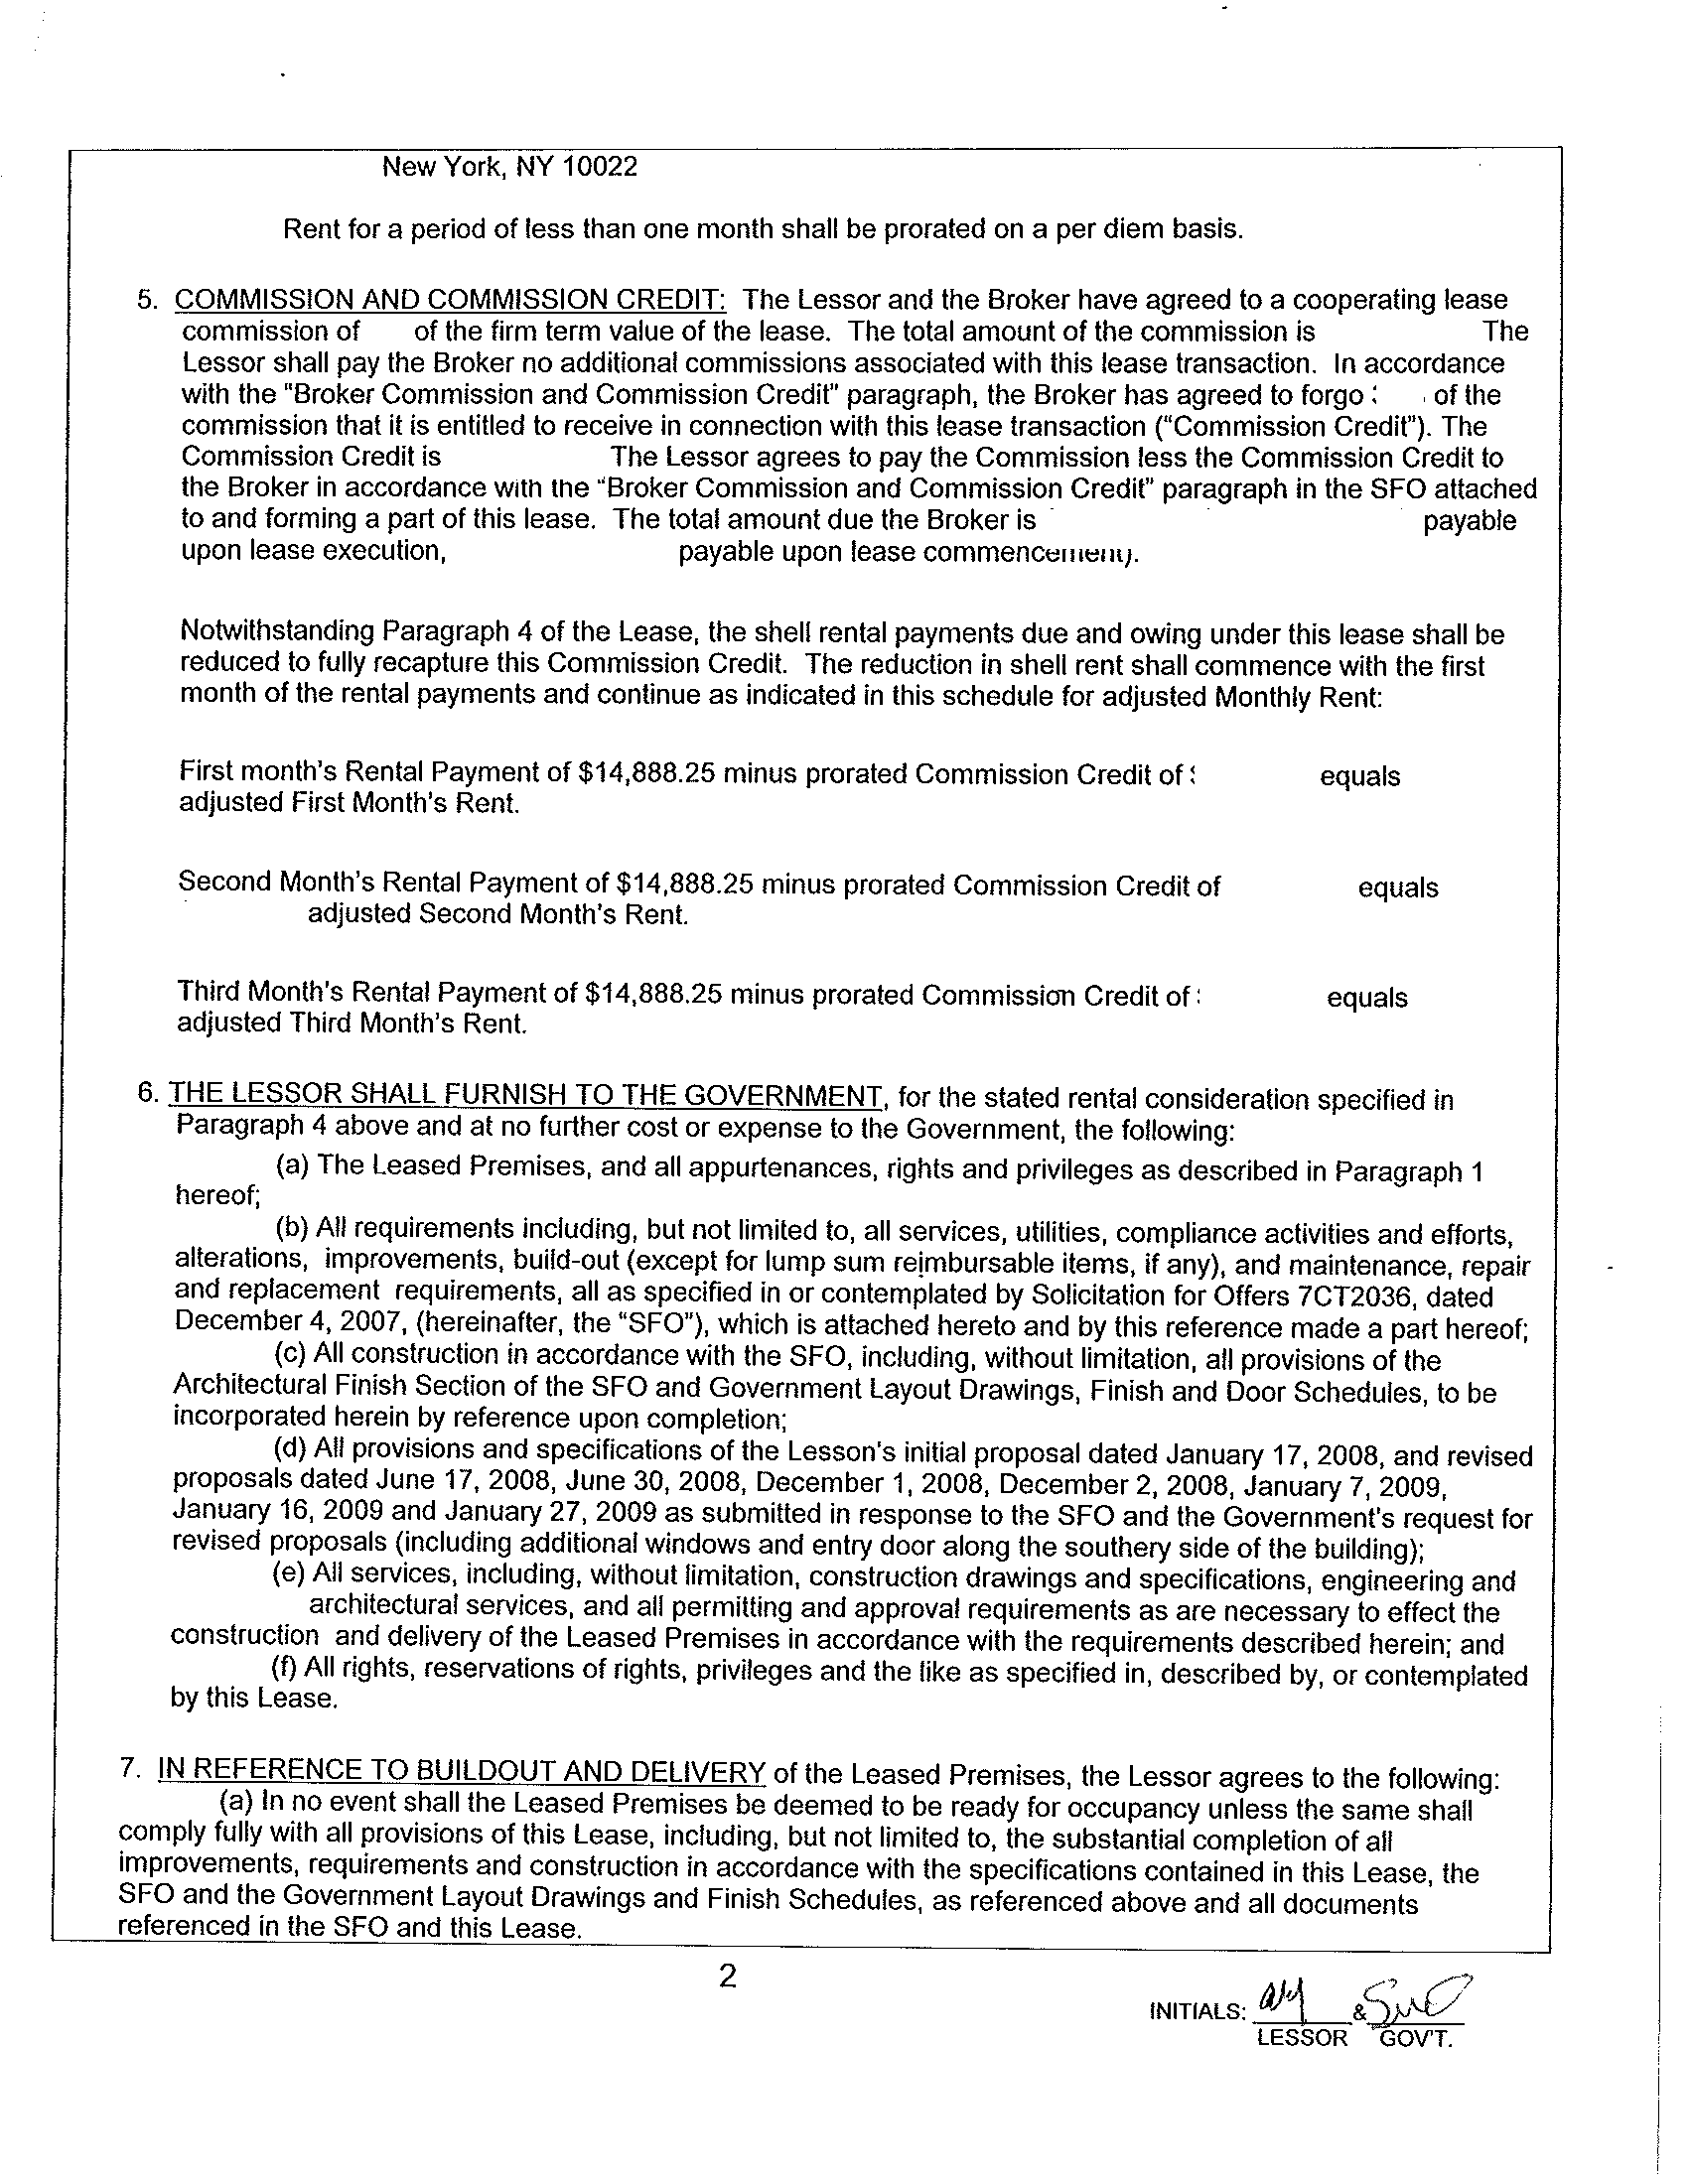handwritten: (1343, 1968, 1499, 2028), (1254, 1966, 1318, 2033)
